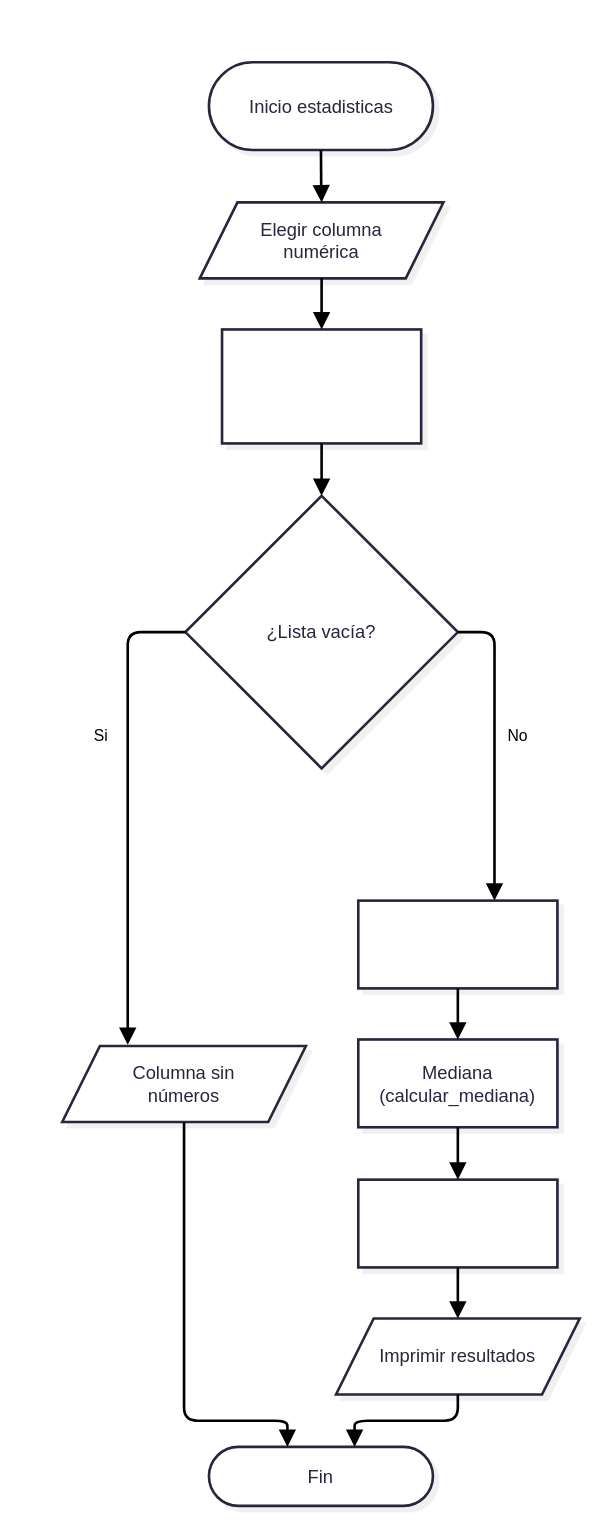
Image size: 608x1534. Some labels were removed from this diagram. The shapes that lost their labels are listed below. From the top down, each one's centre as x and y in pixels, then its label:
At point (323, 388): "obtener_numeros: descarta vacíos y texto".
At point (459, 946): "Promedio = suma / cantidad".
At point (459, 1225): "Máximo y mínimo".
